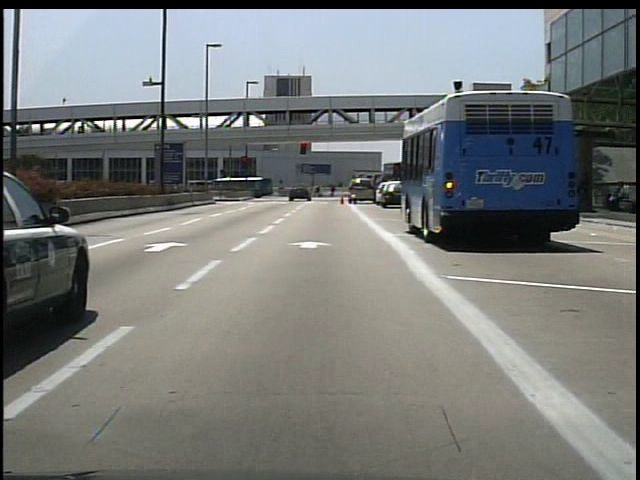person: (605, 180, 628, 211), (315, 183, 325, 198), (329, 183, 338, 198)
